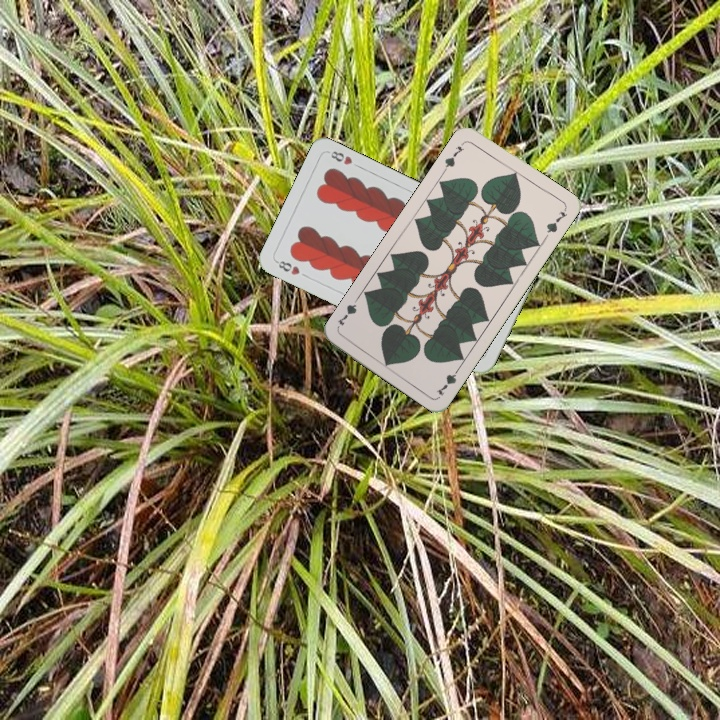G7: (432, 362, 463, 398), (440, 142, 466, 174)
H8: (272, 256, 302, 278)
